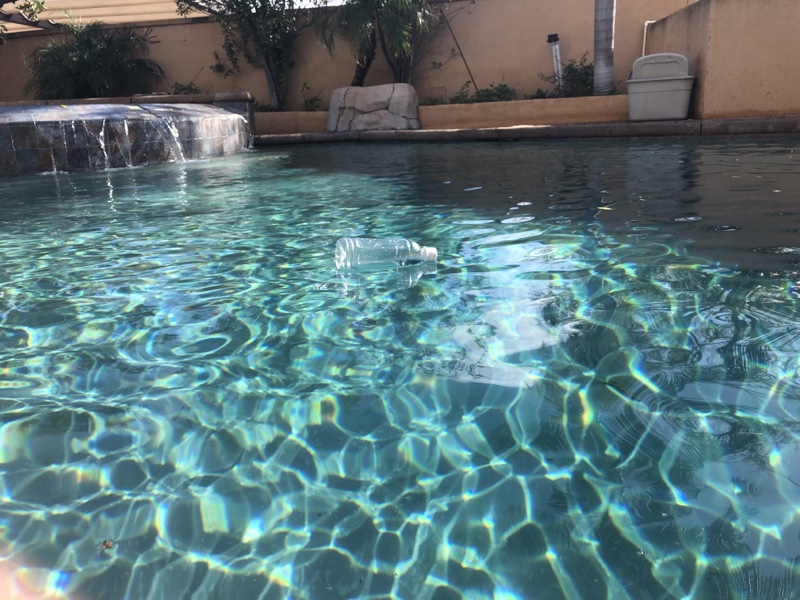Plastic Bottle: (333, 234, 440, 275)
